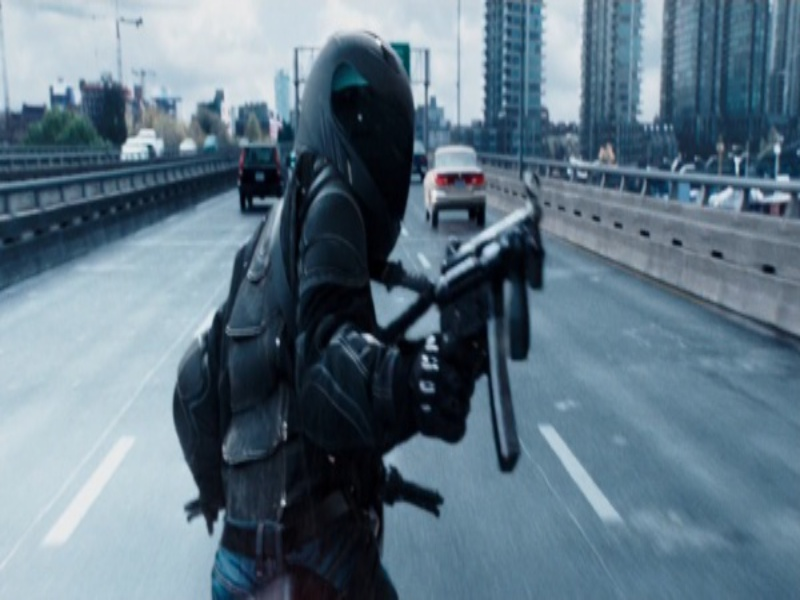person: (174, 28, 482, 595)
weapon: (433, 171, 546, 469)
